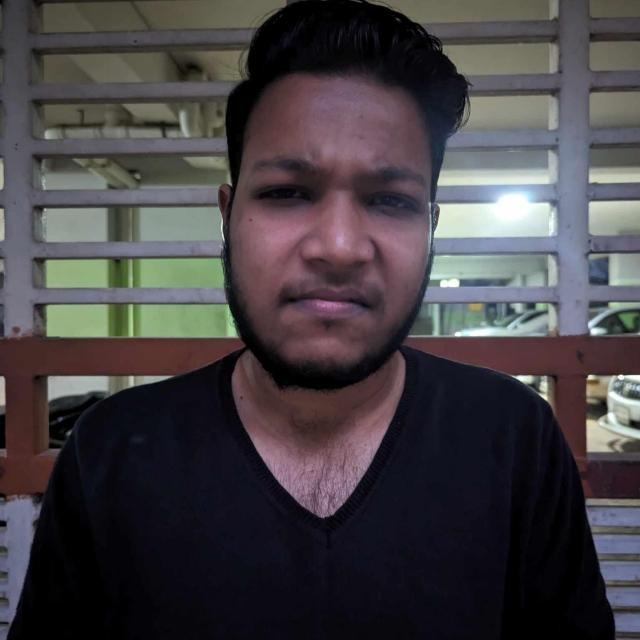Angry: (77, 36, 482, 521)
